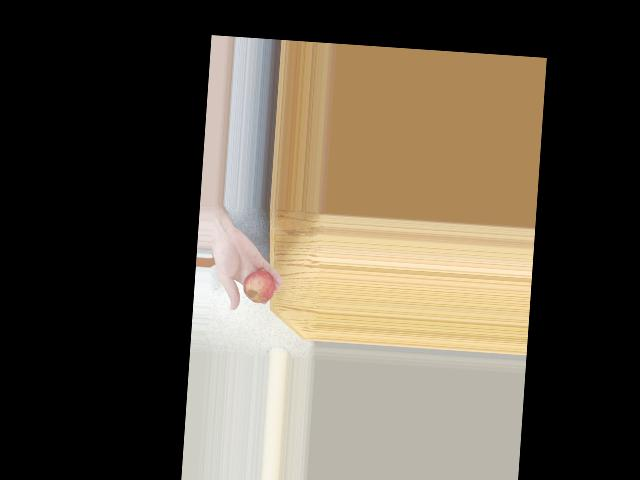apple: (239, 264, 275, 304)
